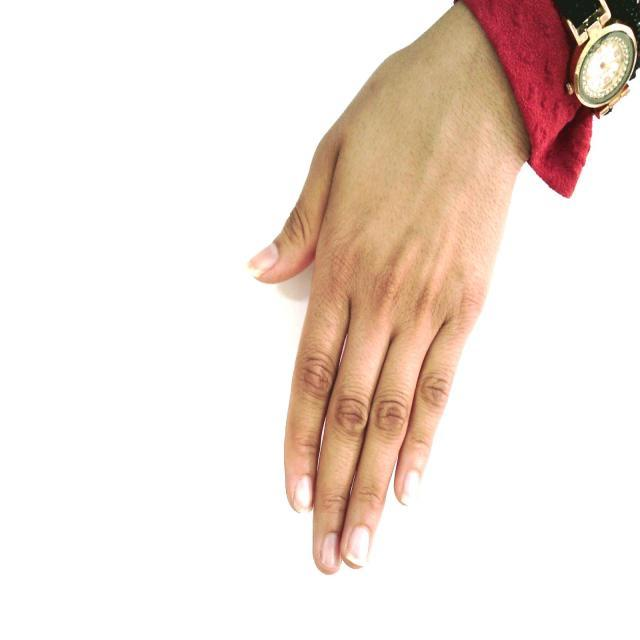Fingernail: (244, 244, 279, 278), (346, 527, 369, 566), (294, 475, 311, 513), (402, 469, 419, 505), (321, 533, 338, 568)
